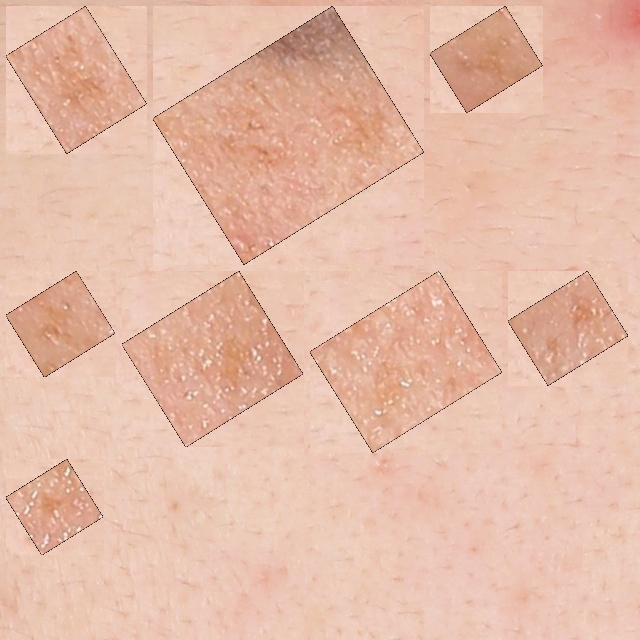melasma: (164, 17, 413, 253), (321, 282, 491, 441), (133, 282, 292, 436), (17, 17, 136, 142), (519, 282, 617, 374), (441, 17, 532, 102), (17, 282, 104, 366), (17, 470, 92, 544)
